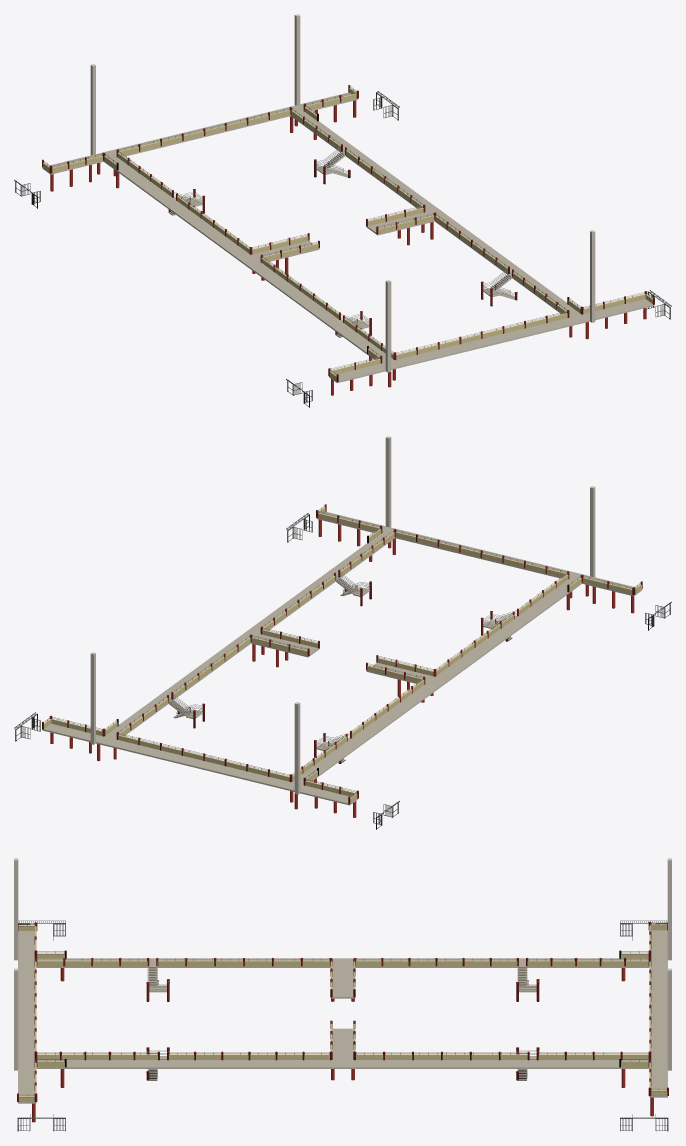
Rendered from SM_Galleries_Bridges.glb.
The picture shows the model from 3 angles, top to bottom: view 1: azimuth 30°, elevation 25°; view 2: azimuth 150°, elevation 25°; view 3: azimuth 270°, elevation 25°; orthographic projection. The views are drawn at different scales.
Parts seen in each view (by area): view 1: SM_Galleries_Bridges_LM, SM_Galleries_Bridges_VC; view 2: SM_Galleries_Bridges_LM, SM_Galleries_Bridges_VC; view 3: SM_Galleries_Bridges_LM, SM_Galleries_Bridges_VC.
Part boxes in pixels (x1,y1,x2,y2): SM_Galleries_Bridges_LM: [14, 14, 671, 395]; SM_Galleries_Bridges_VC: [14, 85, 671, 407]; SM_Galleries_Bridges_LM: [14, 436, 671, 817]; SM_Galleries_Bridges_VC: [14, 504, 671, 829]; SM_Galleries_Bridges_LM: [14, 858, 671, 1122]; SM_Galleries_Bridges_VC: [17, 921, 668, 1131].
Size of the model in its own units: 75.94 by 21.5 by 107.
